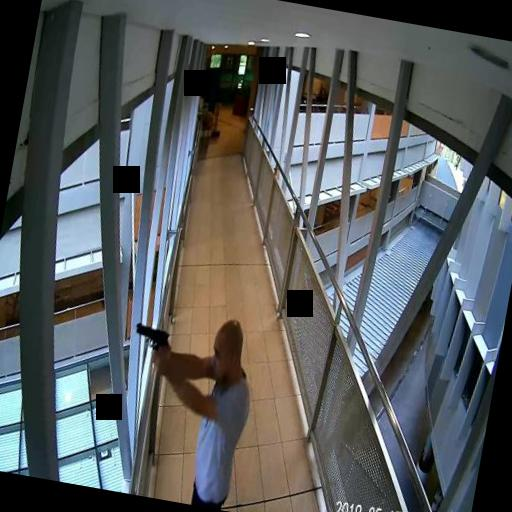Handgun: (125, 316, 178, 377)
